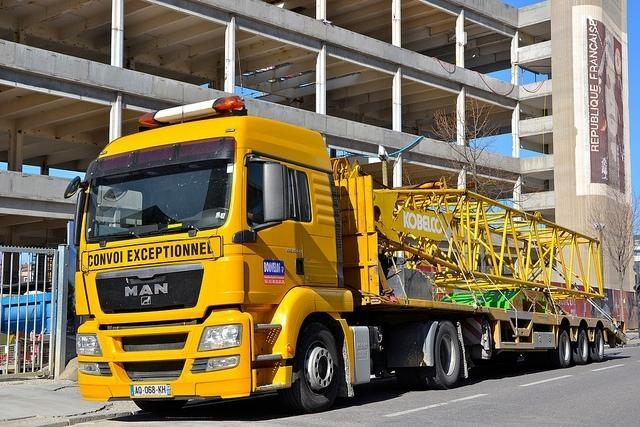truck: (64, 96, 630, 422)
